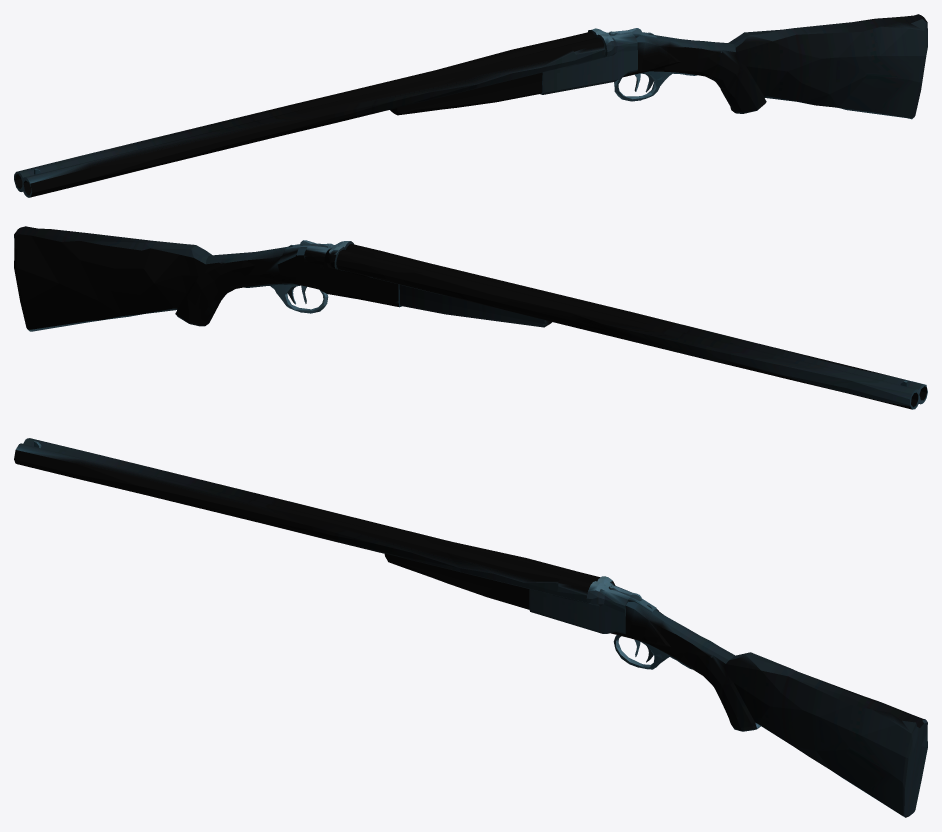
The model's file is Weapon_Shotgun.fbx.
3 views of the same model, one above another, from view 1: azimuth 30°, elevation 25°; view 2: azimuth 150°, elevation 25°; view 3: azimuth 330°, elevation 25° (orthographic).
Visible parts, largest first — view 1: Weapon_Shotgun; view 2: Weapon_Shotgun; view 3: Weapon_Shotgun.
Boxes of the visible parts, left/top/right/bottom form: Weapon_Shotgun: left=14, top=14, right=927, bottom=197; Weapon_Shotgun: left=14, top=226, right=927, bottom=409; Weapon_Shotgun: left=14, top=438, right=927, bottom=817.
Bounding box in the file's own units: 133 × 22.79 × 5.28.
Materials: 2 (1 with a texture image).
